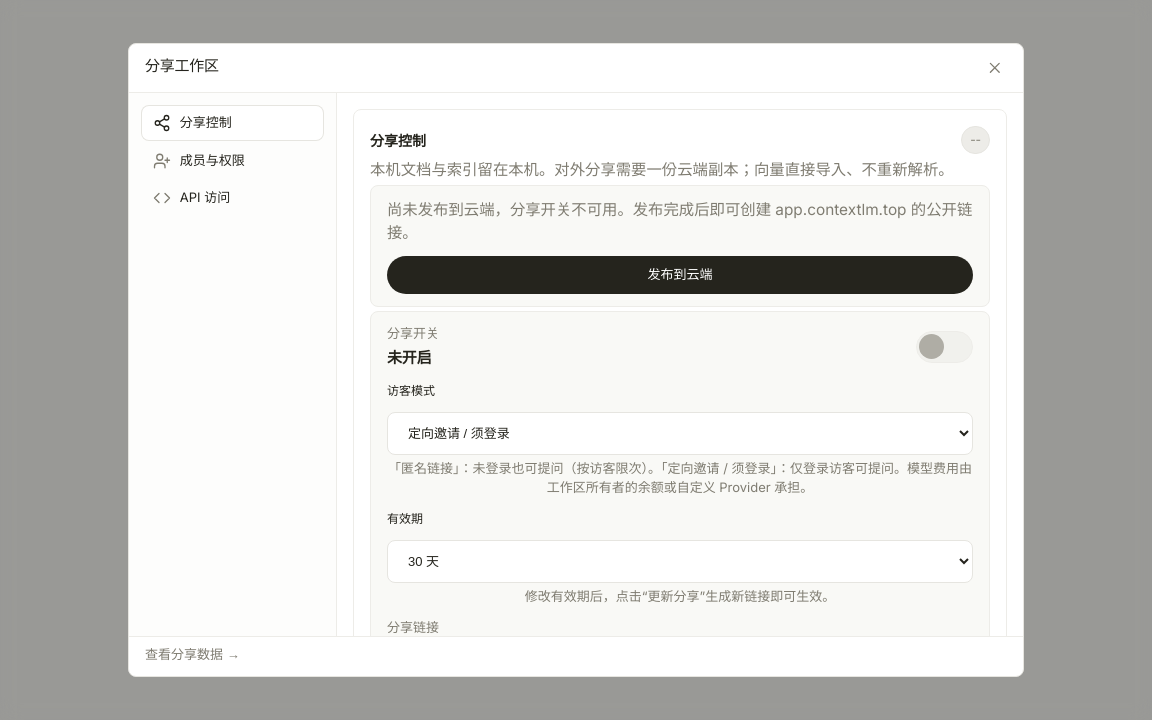
Test case: desktop share publish gate › refreshes cloud status after publish fails instead of keeping never
Click the button with test id "desktop-publish-cta": [680, 275] box [387,256,973,294]
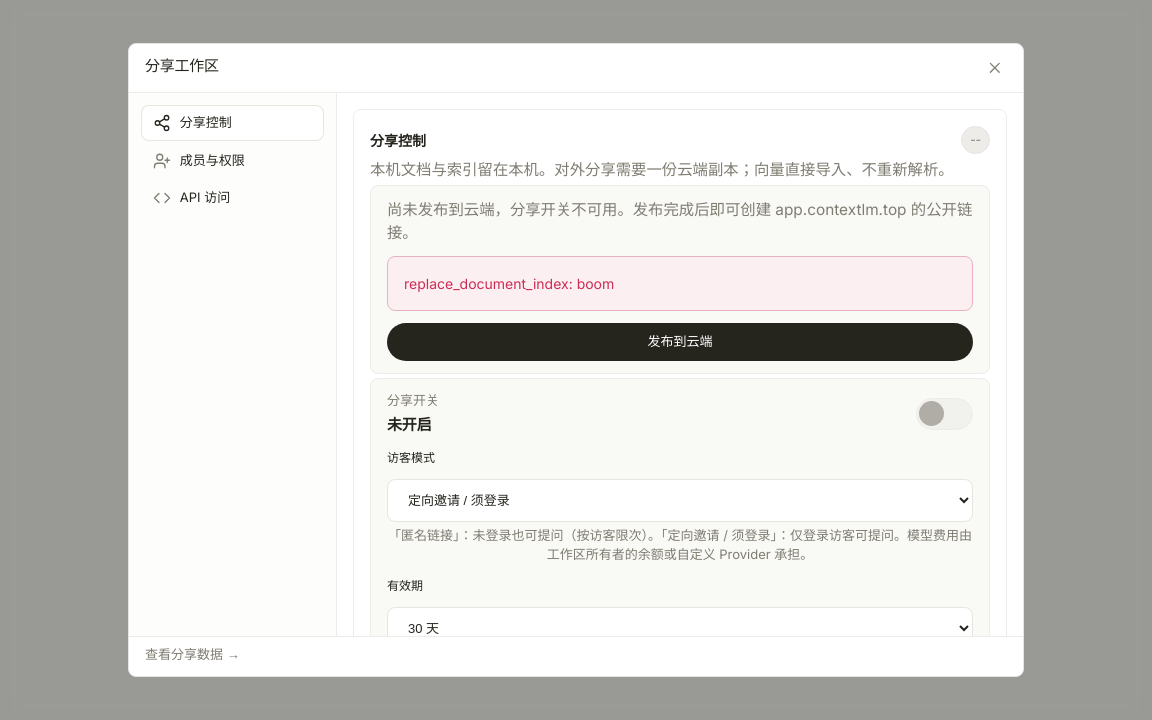
Expected: the button with test id "desktop-publish-cta" is shown, [387,323,973,360]
Result: the text with test id "desktop-publish-error" reads "replace_document_index: boom" at [404,275,614,292]
